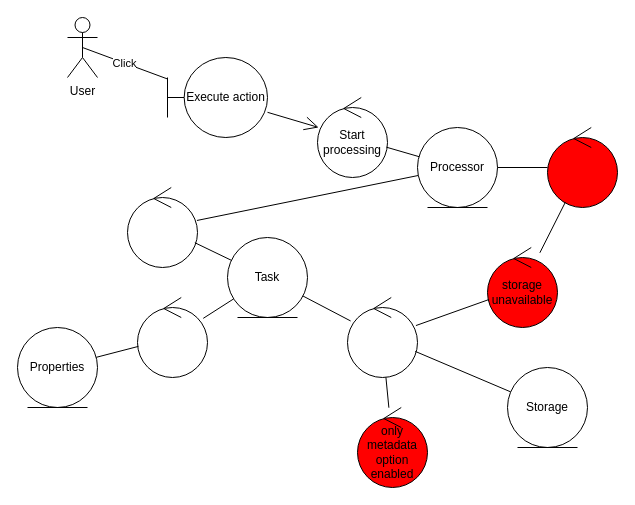
Image size: 635x505. Some labels were removed from this diagram. The shapes that lost their labels are listed below. From the top down, each one's centre as x and y in pixels, then its label:
At point 582,167: "Stop processing".
At point 162,227: "execute".
At point 172,337: "get storage location".
At point 382,337: "read from filestore".
